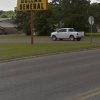Tree: (23, 0, 89, 29)
